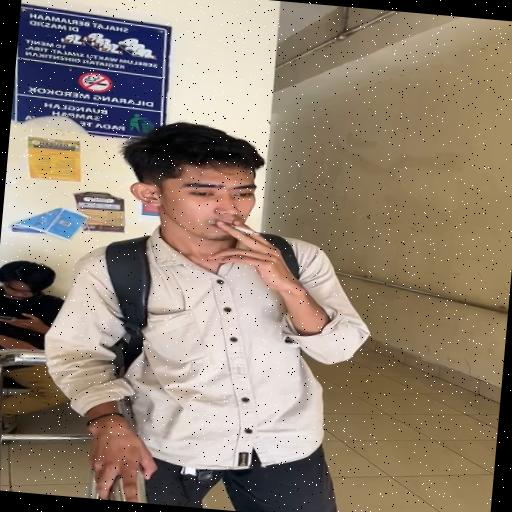dataset-deteksi-merokok: (174, 159, 279, 256)
